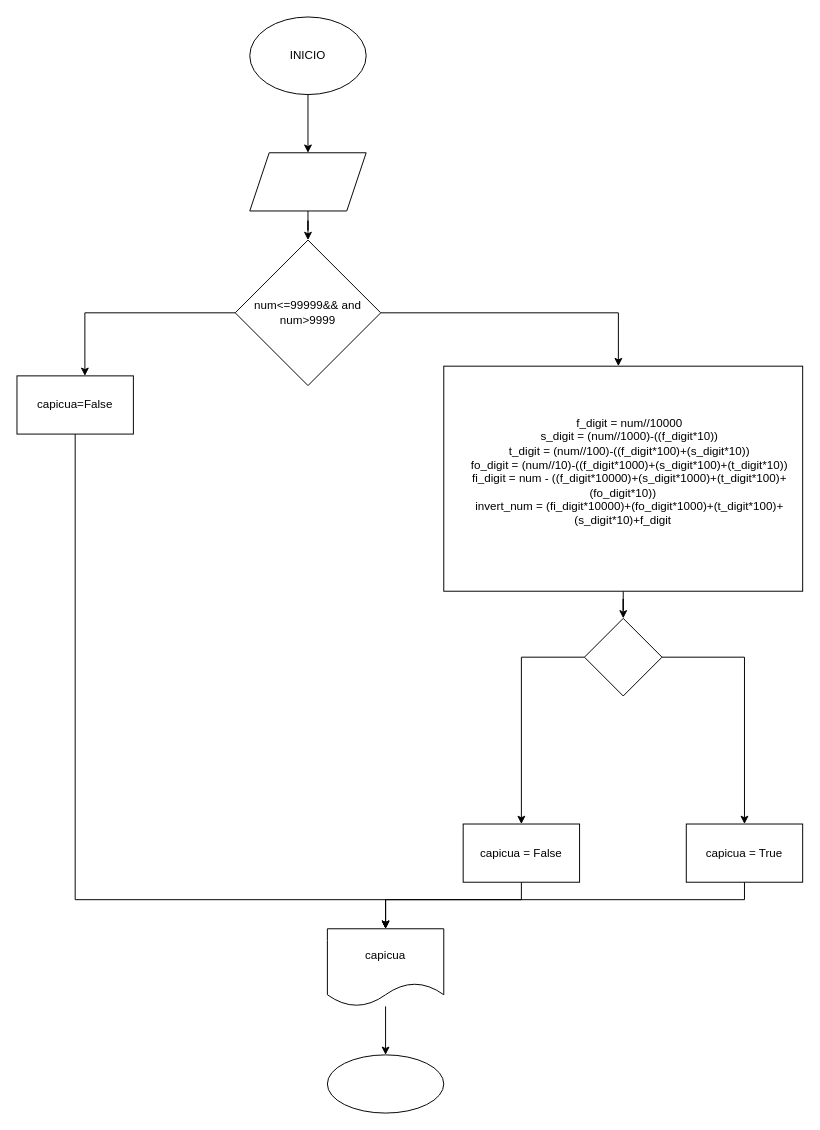
Image size: 820x1130. Some labels were removed from this diagram. The centre of each missing label's shape, as x and y in pixels:
"FIN" goes at pixel 385 1083.
"invert_num == num" goes at pixel 622 656.
"num" goes at pixel 307 181.
